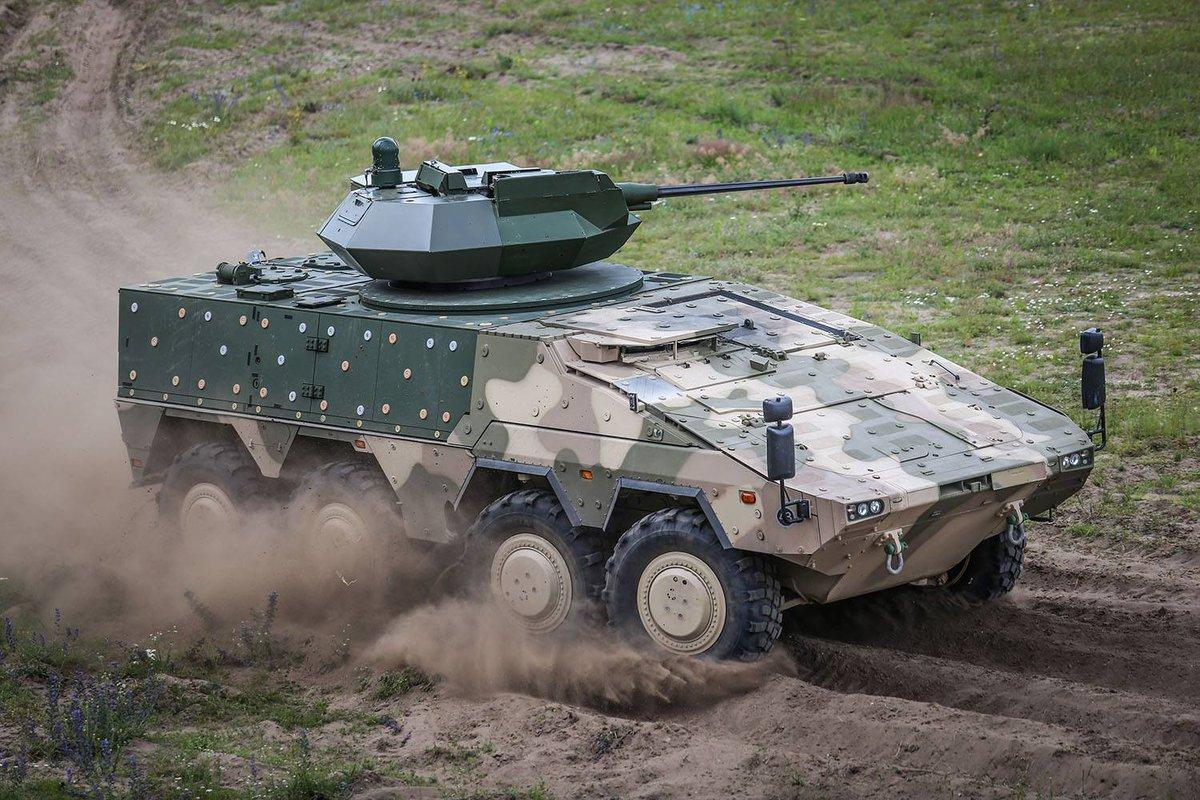tank: (113, 137, 1108, 667)
